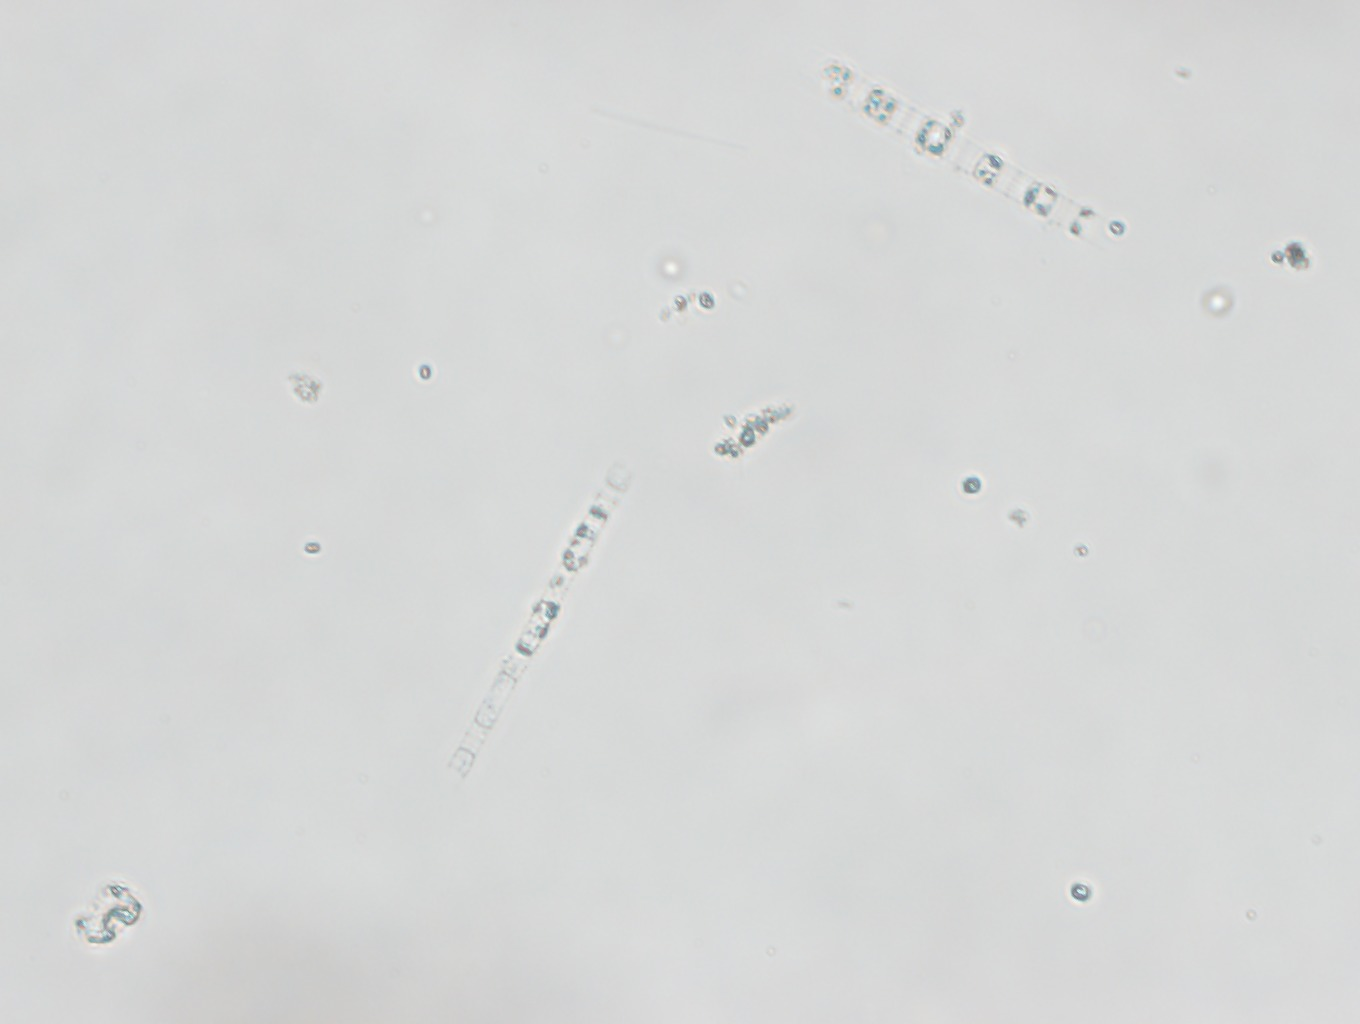skeletonema: (816, 55, 1140, 255), (442, 459, 641, 778)
